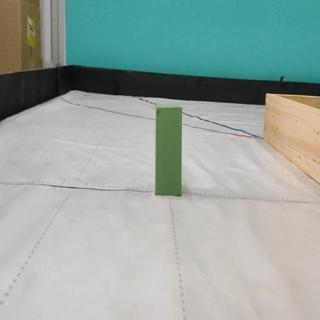greenbox: (154, 106, 182, 196)
